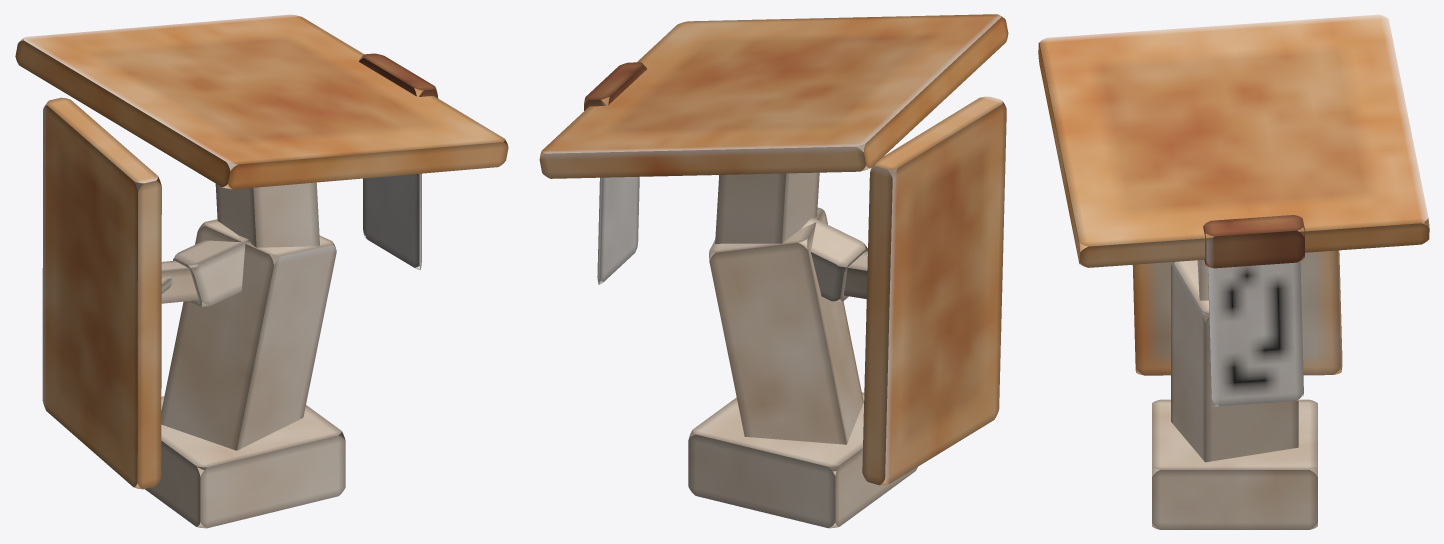
Rendered from cervinus.fbx.
3 views of the same model, side by side, from view 1: azimuth 30°, elevation 25°; view 2: azimuth 150°, elevation 25°; view 3: azimuth 270°, elevation 25° (orthographic). The views are drawn at different scales.
Parts seen in each view (by area): view 1: Hat, Shield, BigStem, Base, SmallStem, Banner, Arm1, Conect, Arm2; view 2: Hat, Shield, BigStem, Base, SmallStem, Banner, Arm1, Conect, Arm2; view 3: Hat, Base, Banner, BigStem, Shield, Conect.
Boxes of the visible parts, x1,y1,x2,y2 form: Hat: [15, 14, 508, 189]; Shield: [42, 97, 161, 489]; BigStem: [161, 219, 336, 470]; Base: [145, 396, 345, 528]; SmallStem: [215, 182, 319, 264]; Banner: [363, 173, 421, 270]; Arm1: [173, 235, 250, 306]; Conect: [359, 53, 438, 98]; Arm2: [161, 260, 199, 303]; Hat: [539, 14, 1008, 178]; Shield: [862, 96, 1006, 485]; BigStem: [709, 207, 863, 471]; Base: [688, 392, 917, 528]; SmallStem: [715, 172, 819, 243]; Banner: [597, 177, 639, 284]; Arm1: [798, 218, 867, 301]; Conect: [584, 62, 646, 110]; Arm2: [837, 251, 867, 298]; Hat: [1038, 14, 1429, 267]; Base: [1152, 399, 1317, 529]; Banner: [1208, 261, 1303, 406]; BigStem: [1171, 260, 1298, 462]; Shield: [1132, 250, 1342, 375]; Conect: [1203, 215, 1304, 268].
Size of the model in its own units: 598 by 691 by 589.
Materials: 1 (1 with a texture image).
